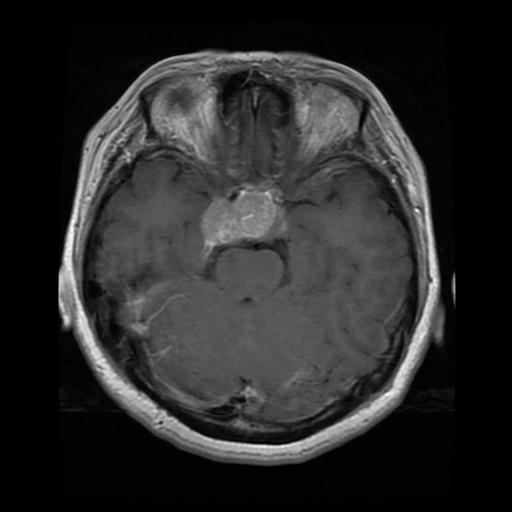pituitary: (201, 186, 278, 242)
